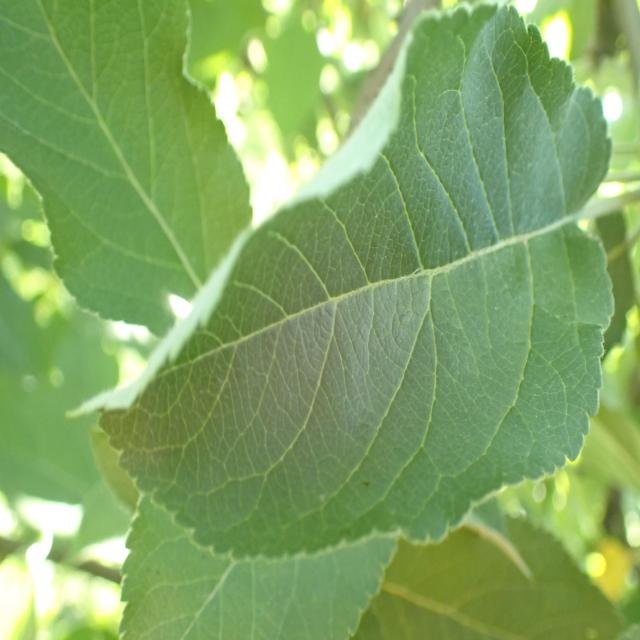healthy: (69, 1, 615, 559), (0, 1, 255, 340), (117, 486, 398, 638)
